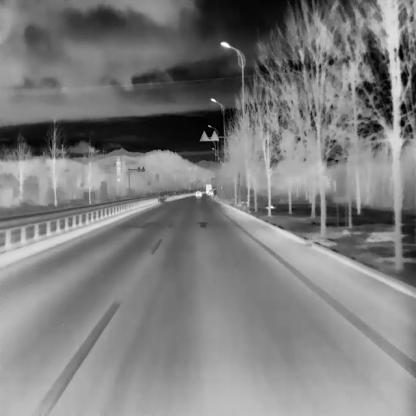car: (195, 189, 201, 197), (208, 188, 214, 196)
truck: (205, 183, 212, 195)
